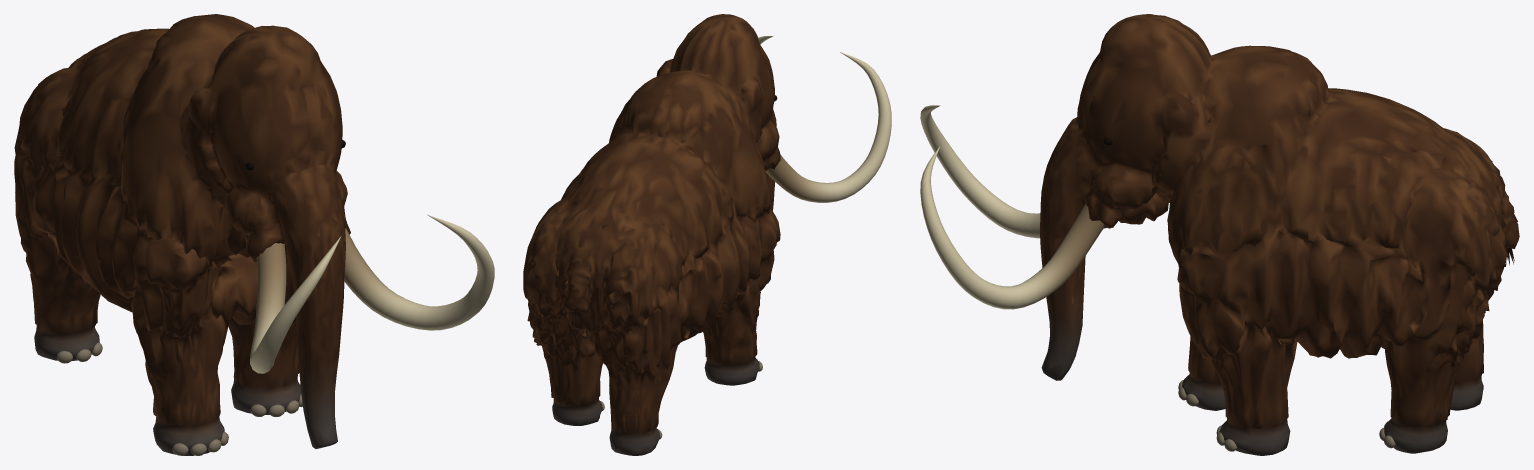
The model's file is WoollyMammoth.fbx.
The picture shows the model from 3 angles, left to right: view 1: azimuth 30°, elevation 25°; view 2: azimuth 150°, elevation 25°; view 3: azimuth 270°, elevation 25°; orthographic projection. The views are drawn at different scales.
Visible parts, largest first — view 1: WoollyMammoth; view 2: WoollyMammoth; view 3: WoollyMammoth.
Boxes of the visible parts, x1,y1,x2,y2 form: WoollyMammoth: [14, 14, 494, 455]; WoollyMammoth: [523, 14, 891, 455]; WoollyMammoth: [920, 14, 1519, 455].
Bounding box in the file's own units: 0.9678 × 1.74 × 2.35.
